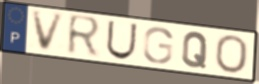G: (141, 26, 175, 65)
O: (214, 34, 250, 75)
Q: (180, 30, 210, 70)
R: (65, 12, 104, 60)
U: (104, 19, 139, 61)
V: (30, 10, 68, 53)
